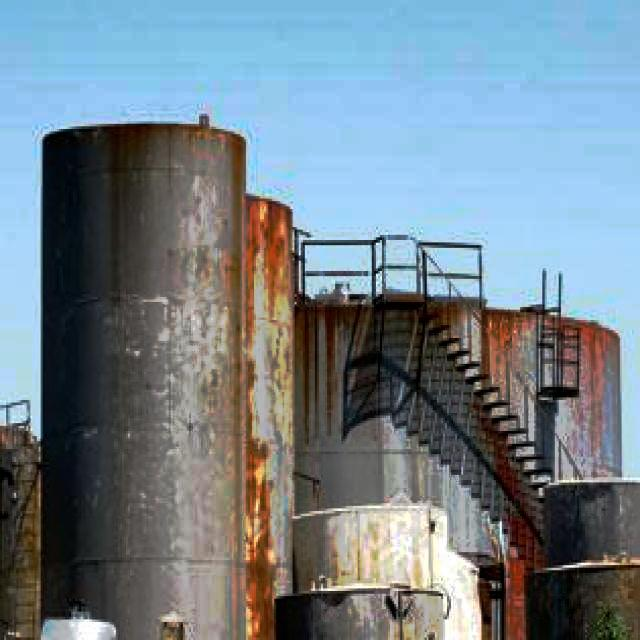Corrosion: (102, 125, 623, 640)
